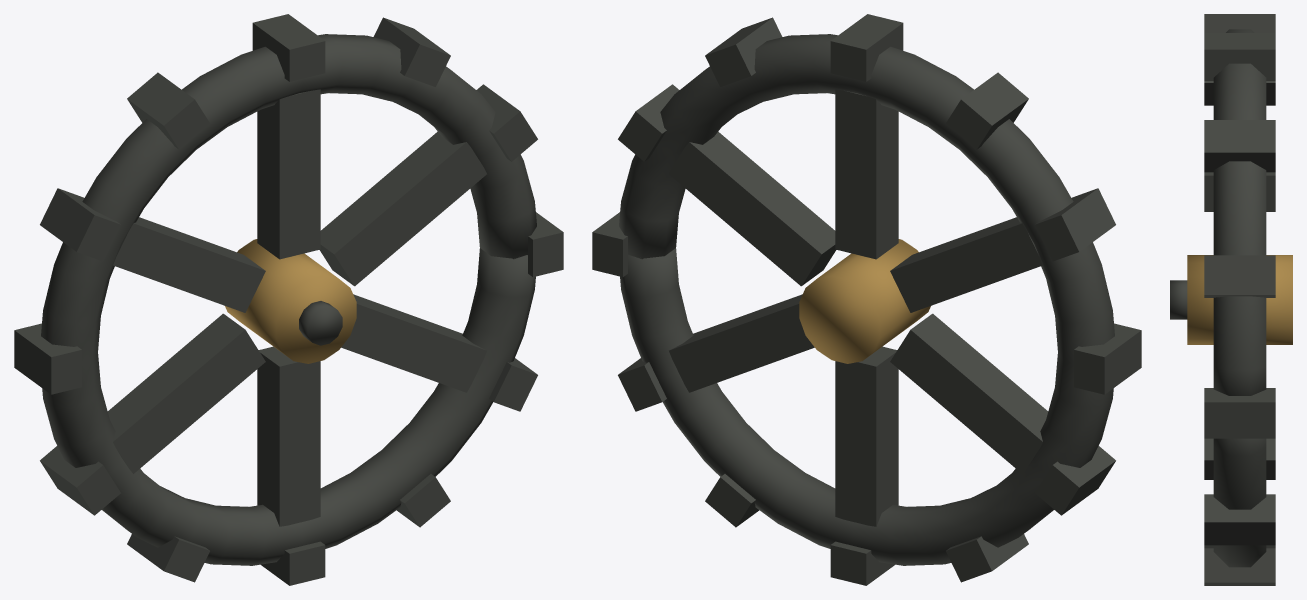
Rendered from b3_gear_small.glb.
3 views of the same model, side by side, from view 1: azimuth 30°, elevation 25°; view 2: azimuth 150°, elevation 25°; view 3: azimuth 270°, elevation 25° (orthographic). The views are drawn at different scales.
Visible parts, largest first — view 1: b3_gear_small; view 2: b3_gear_small; view 3: b3_gear_small.
Boxes of the visible parts, x1,y1,x2,y2 form: b3_gear_small: [14, 14, 563, 585]; b3_gear_small: [592, 14, 1141, 585]; b3_gear_small: [1170, 14, 1292, 585].
Bounding box in the file's own units: 2 × 2 × 0.43.
